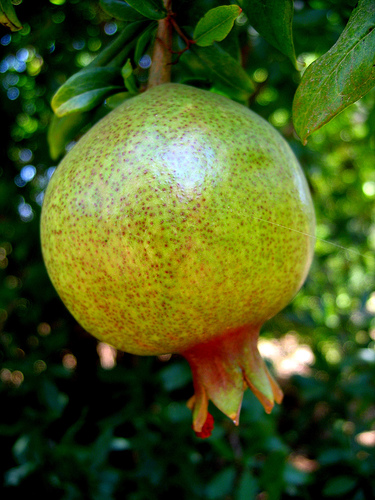pomogranate: (40, 82, 315, 437)
